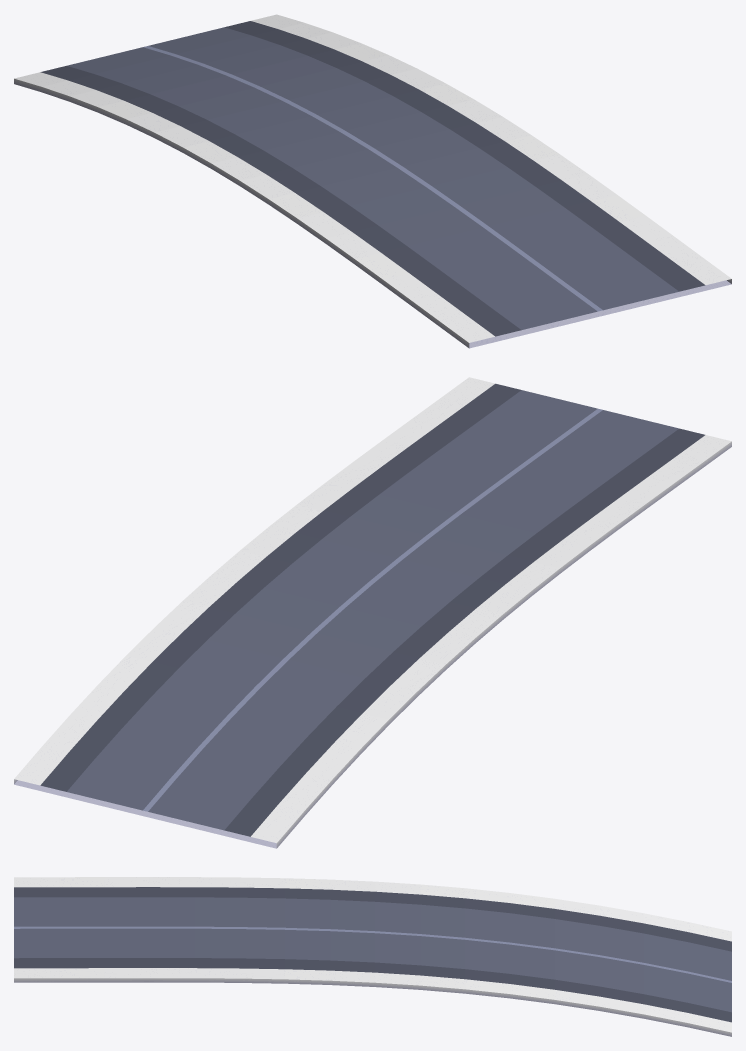
File: road-Straight-Flat-BiSlopeDown-Down1-Center-Size3.glb
3 views of the same model, one above another, from view 1: azimuth 30°, elevation 25°; view 2: azimuth 150°, elevation 25°; view 3: azimuth 270°, elevation 25° (orthographic). The views are drawn at different scales.
Parts seen in each view (by area): view 1: road-Straight-Flat-BiSlopeDown-Down1-Center-Size3; view 2: road-Straight-Flat-BiSlopeDown-Down1-Center-Size3; view 3: road-Straight-Flat-BiSlopeDown-Down1-Center-Size3.
Boxes of the visible parts, box(x1,y1,x2,y2) form: road-Straight-Flat-BiSlopeDown-Down1-Center-Size3: box(14, 14, 731, 348); road-Straight-Flat-BiSlopeDown-Down1-Center-Size3: box(14, 377, 731, 848); road-Straight-Flat-BiSlopeDown-Down1-Center-Size3: box(14, 877, 731, 1036).
Size of the model in its own units: 1 by 0.271 by 3.
Materials: 1 (1 with a texture image).
